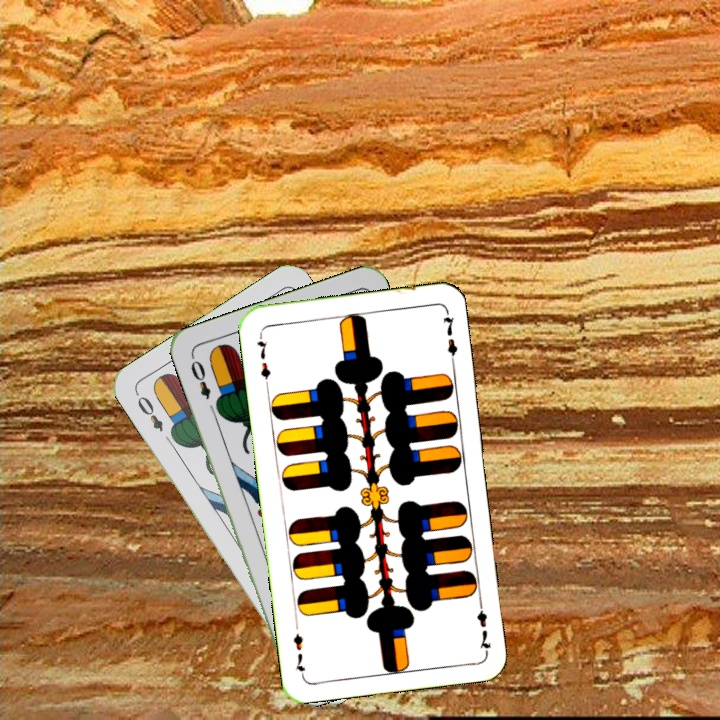E7: (473, 595, 494, 654), (253, 330, 273, 389)
EO: (131, 388, 166, 434), (187, 356, 213, 402)
